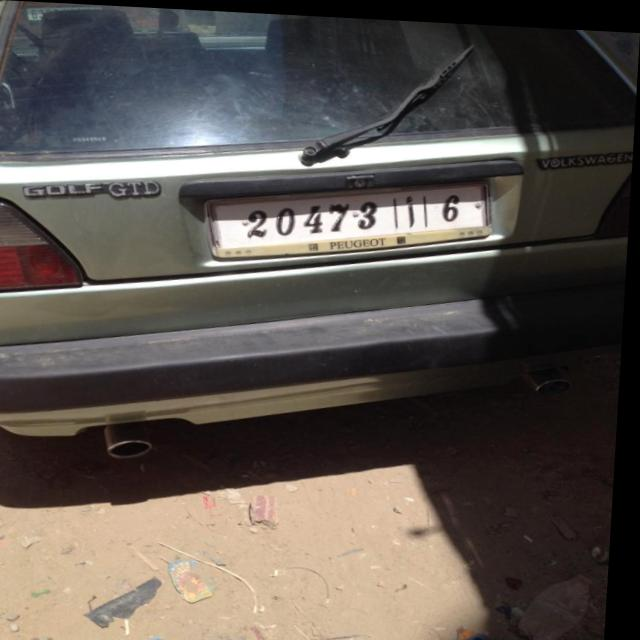License-Plate: (209, 177, 494, 256)
